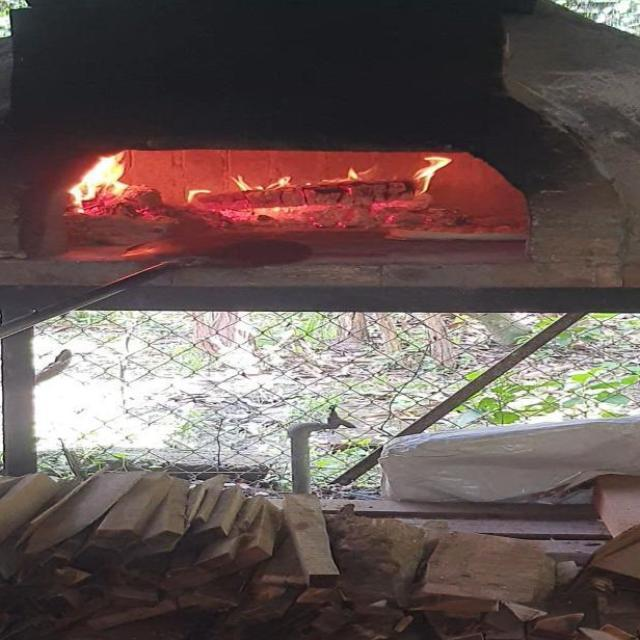smoke: (61, 150, 144, 217), (412, 152, 458, 198), (228, 170, 295, 192), (186, 183, 212, 203), (344, 165, 361, 182)
